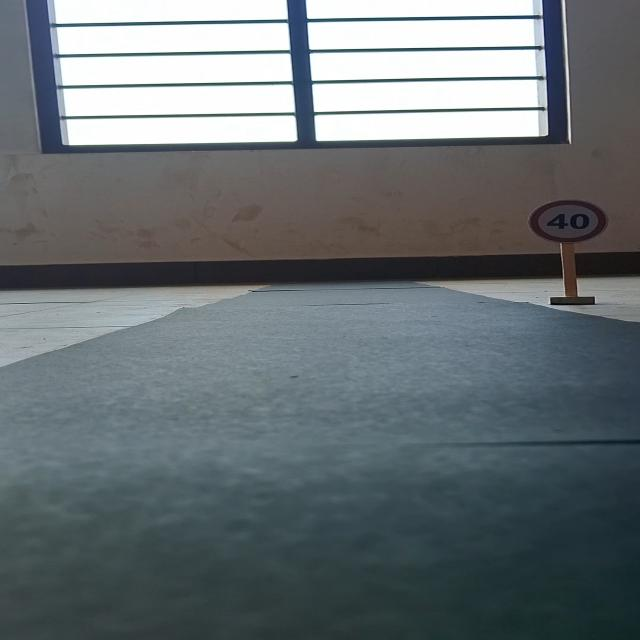Speed40: (526, 194, 608, 243)
